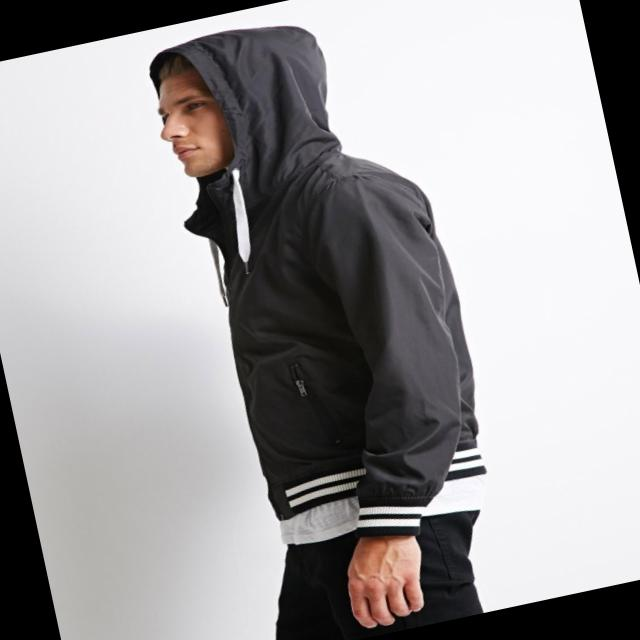Jacket: (122, 0, 511, 545)
